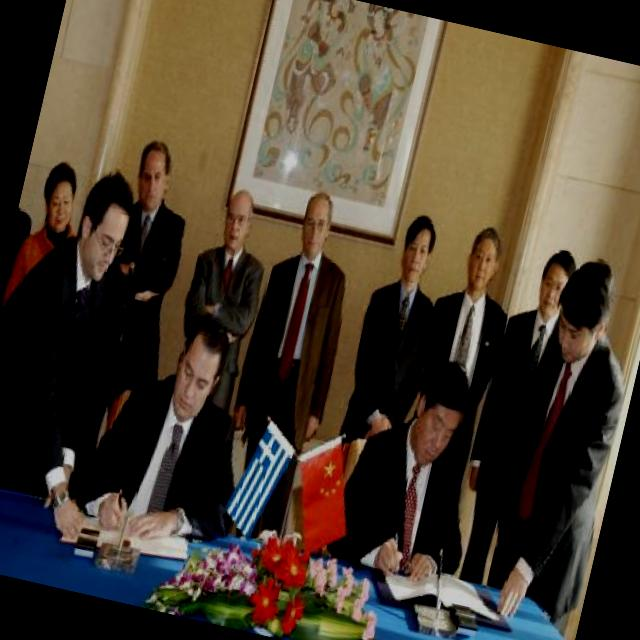Person: (0, 114, 640, 640), (0, 145, 150, 574), (329, 2, 413, 169), (273, 0, 358, 142)
